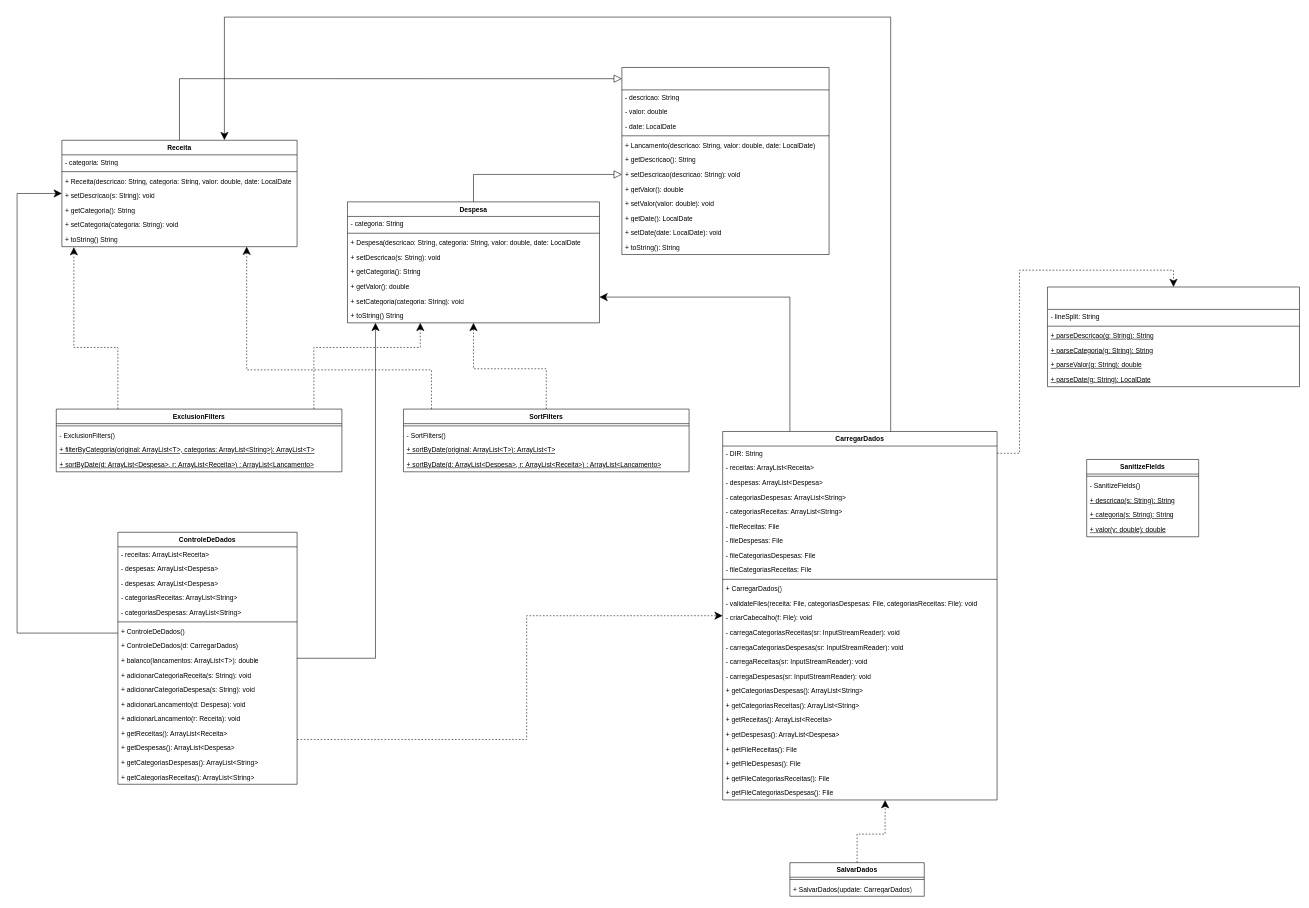
Some shapes in this 1309 by 908 pixel diagram are drawn without their labels. Each missing label, with the box of its shape:
<<abstract>> Lancamento: (621, 67, 829, 255)
<<abstract>> ParseLine: (1047, 286, 1299, 387)
